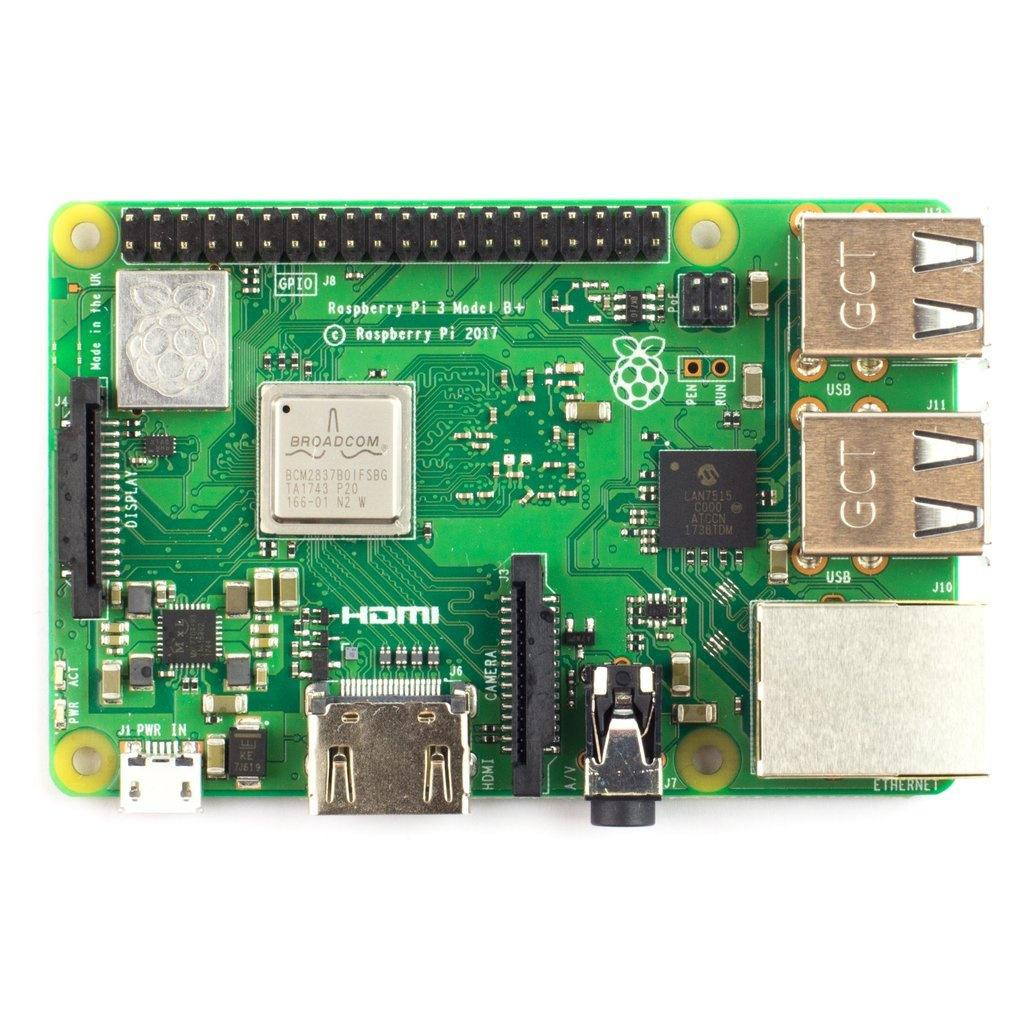audiojack: (575, 662, 663, 829)
bchi: (258, 377, 424, 539)
ethernet: (756, 605, 998, 786)
gpio: (125, 191, 670, 270)
usb: (799, 208, 989, 366), (805, 412, 993, 558)
